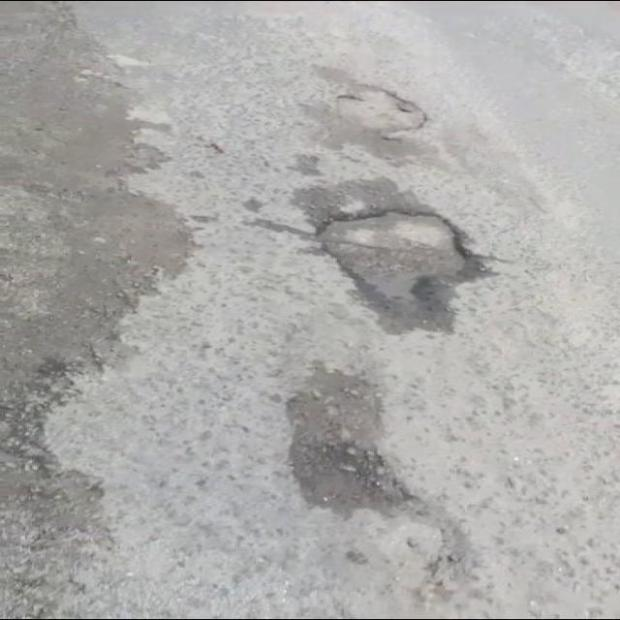lubang: (0, 3, 191, 454), (318, 210, 485, 330), (287, 366, 420, 515), (0, 448, 111, 617), (335, 84, 427, 140)
